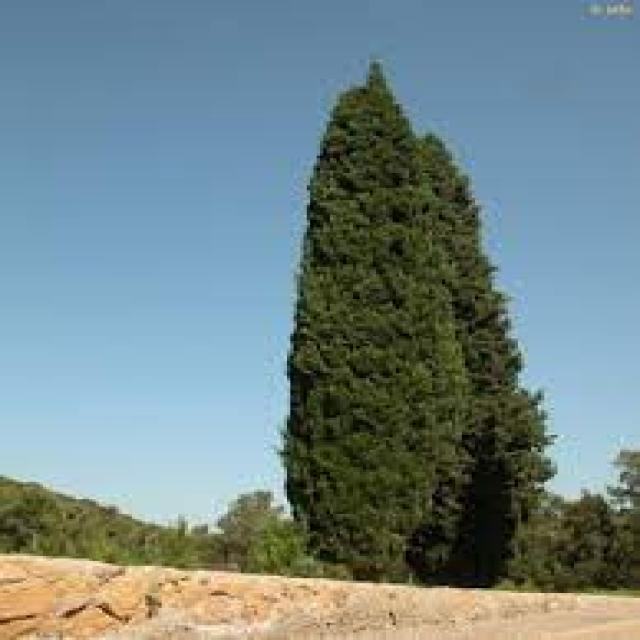cipres: (284, 58, 467, 587), (400, 138, 559, 590)
